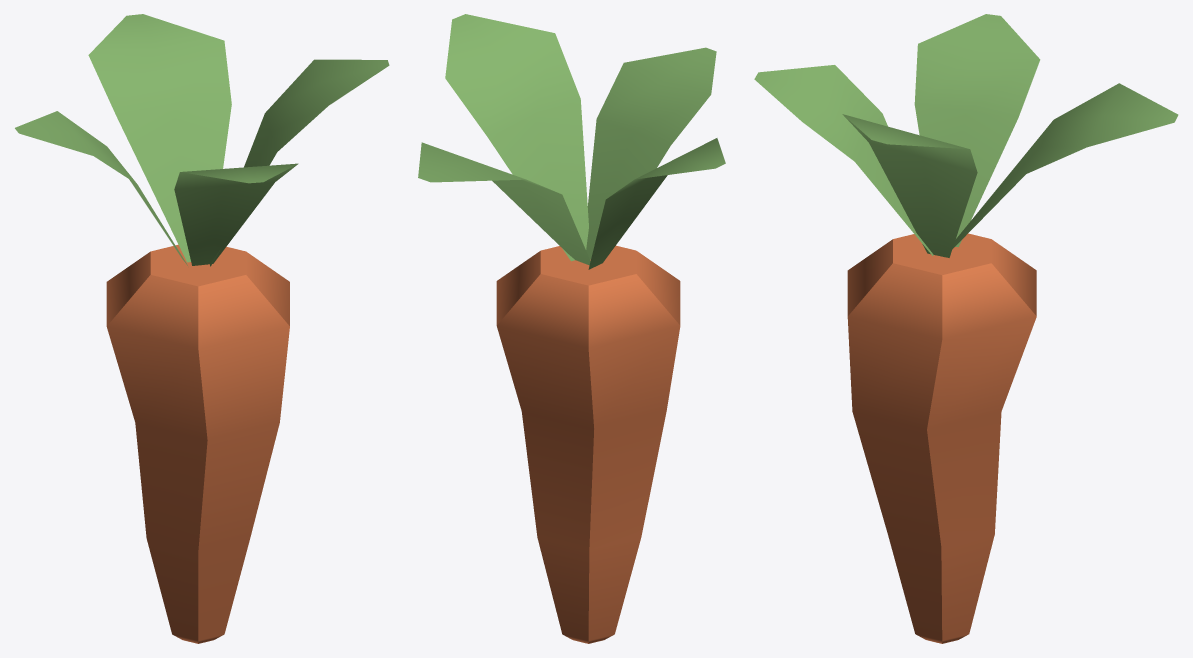
The model's file is carrot pop.fbx.
The picture shows the model from 3 angles, left to right: view 1: azimuth 30°, elevation 25°; view 2: azimuth 150°, elevation 25°; view 3: azimuth 270°, elevation 25°; orthographic projection. The views are drawn at different scales.
Parts seen in each view (by area): view 1: carrot1; view 2: carrot1; view 3: carrot1.
Boxes of the visible parts, box(x1,y1,x2,y2) form: carrot1: box(15, 14, 389, 643); carrot1: box(418, 14, 725, 643); carrot1: box(754, 14, 1178, 643).
Size of the model in its own units: 9.87 by 16.38 by 10.95.
